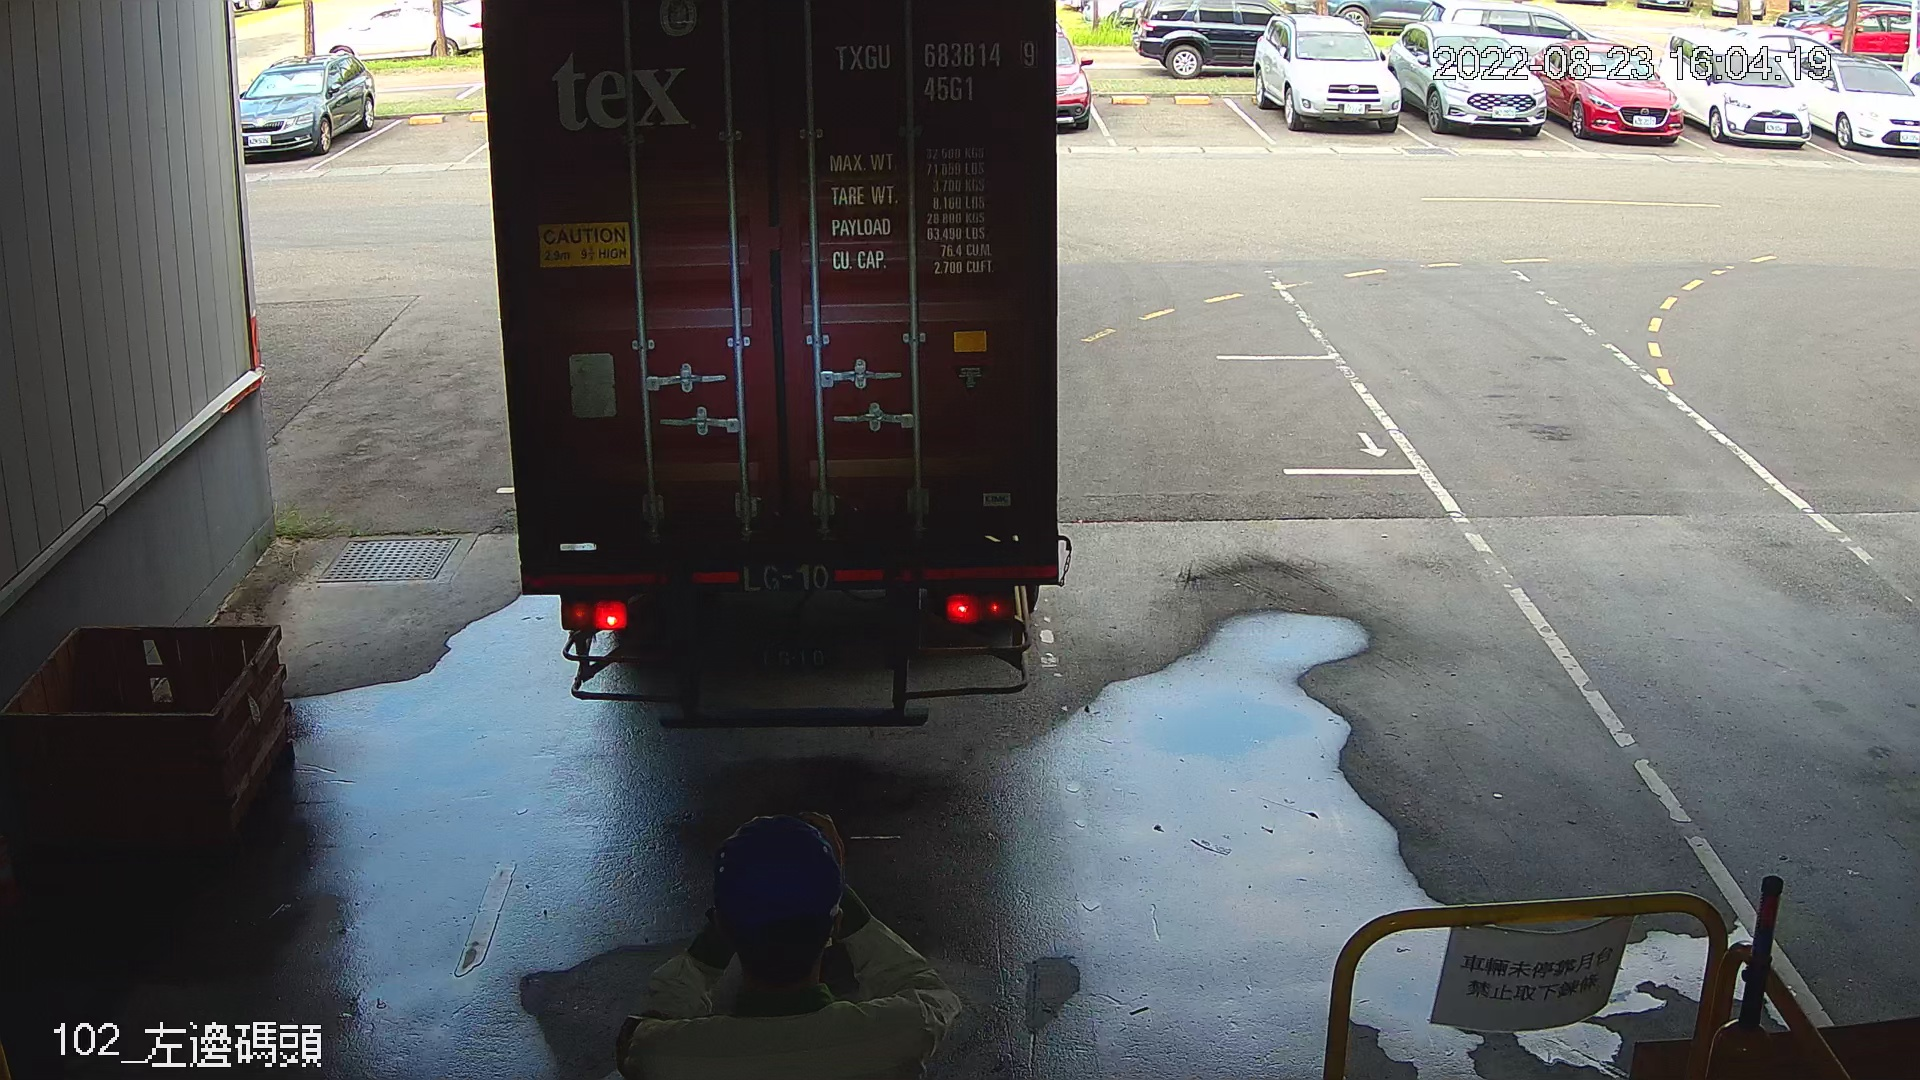container: (829, 29, 1044, 111)
